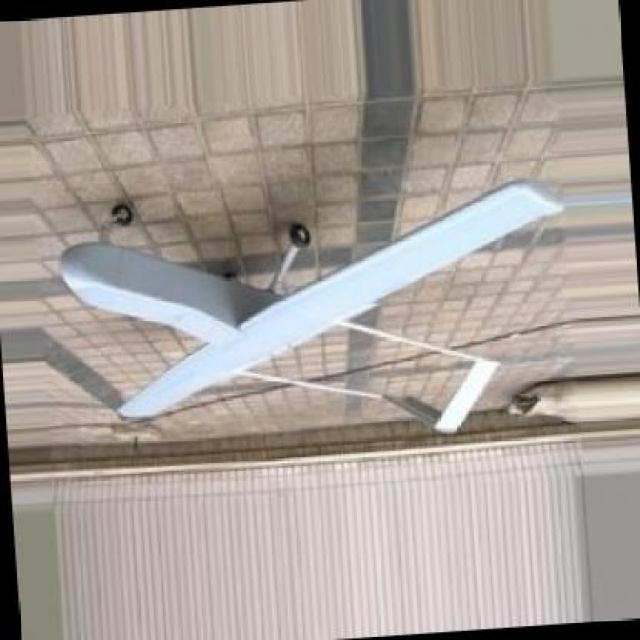iha: (0, 68, 629, 479)
